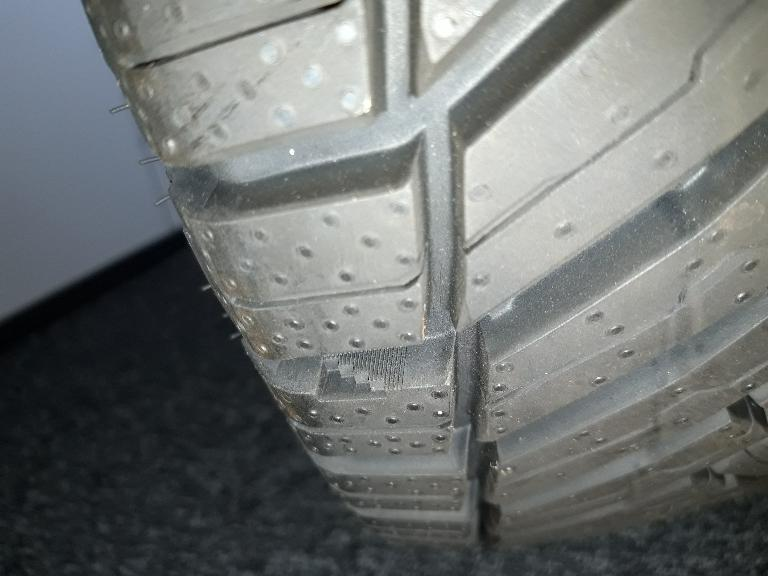temoin:100: (313, 345, 408, 403)
